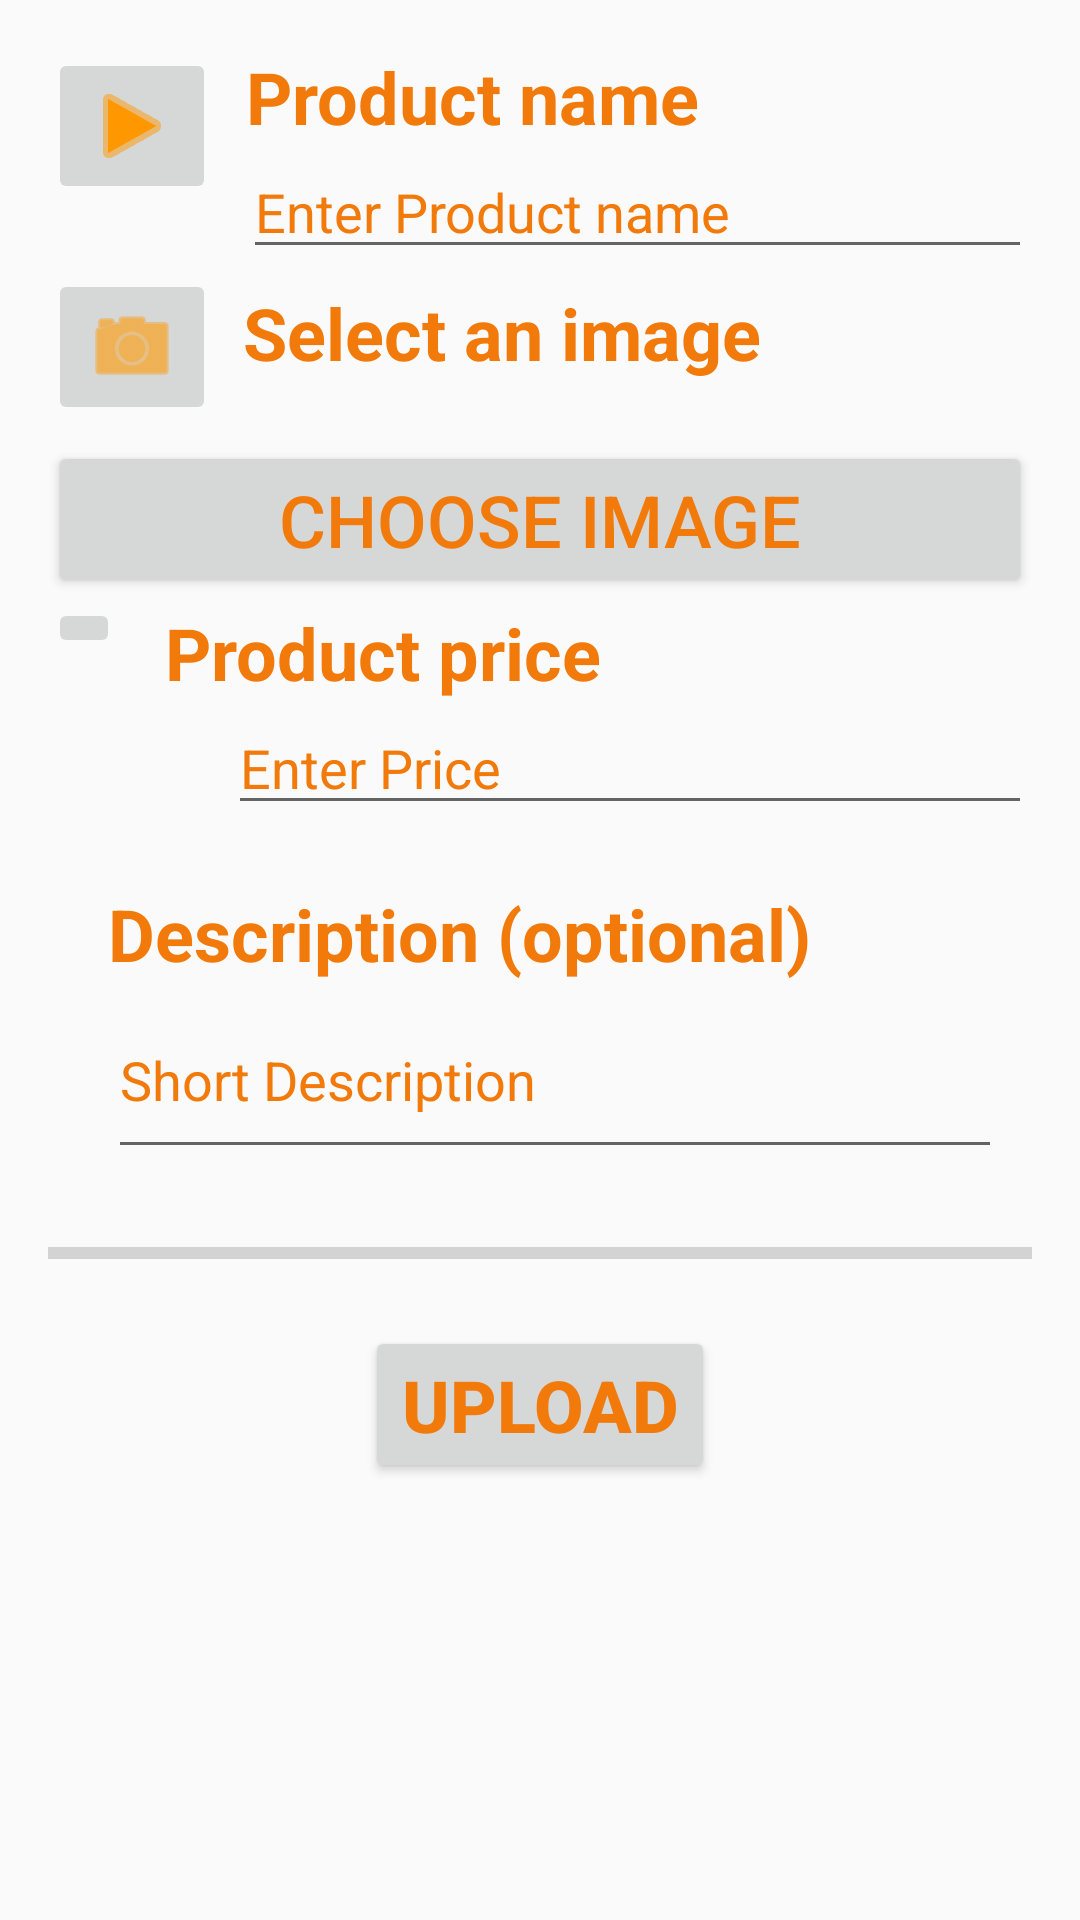

Icons on this 1080 x 1920 Android screen, each with its box as (x1, y1, x2, y2):
camera: (60, 287, 204, 407)
play: (60, 66, 204, 186)
